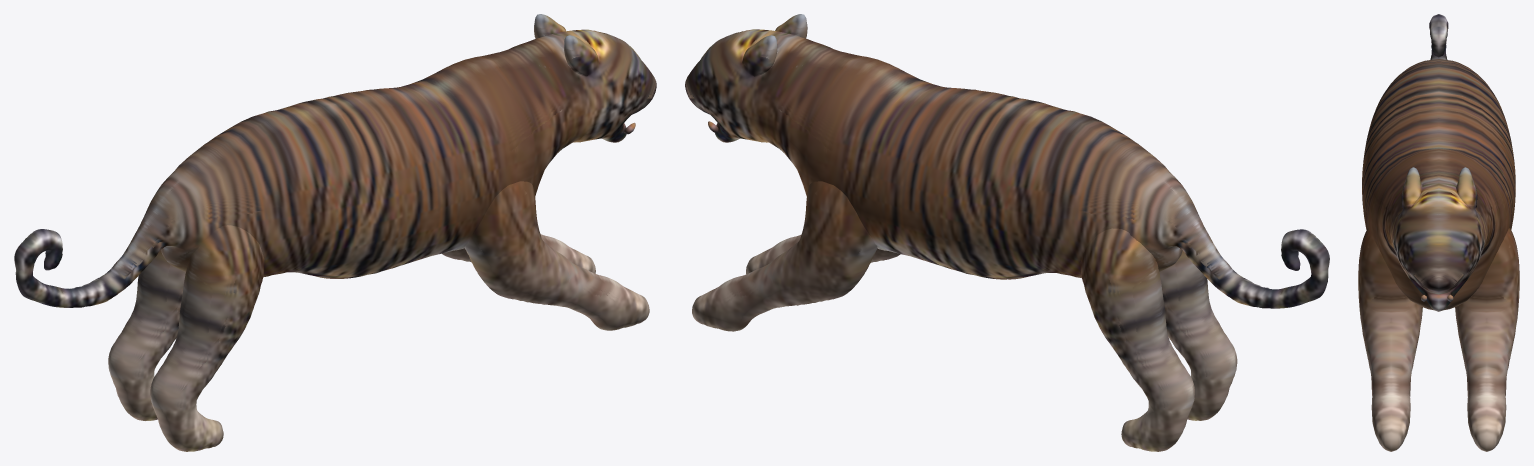
The model's file is sunda-tiger.glb.
3 renders of one model, left to right at view 1: azimuth 30°, elevation 25°; view 2: azimuth 150°, elevation 25°; view 3: azimuth 270°, elevation 25°, orthographic. The views are drawn at different scales.
Parts seen in each view (by area): view 1: mm_frame (7); view 2: mm_frame (7); view 3: mm_frame (7).
Boxes of the visible parts, x1,y1,x2,y2 form: mm_frame (7): (14,14,656,451); mm_frame (7): (685,14,1329,451); mm_frame (7): (1358,14,1519,451).
Size of the model in its own units: 7.83 by 3.71 by 1.93.
Materials: 1 (1 with a texture image).
